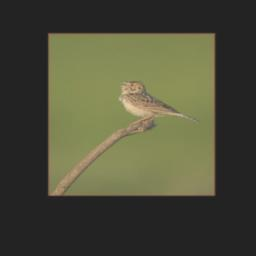Sparrow: (119, 80, 200, 126)
